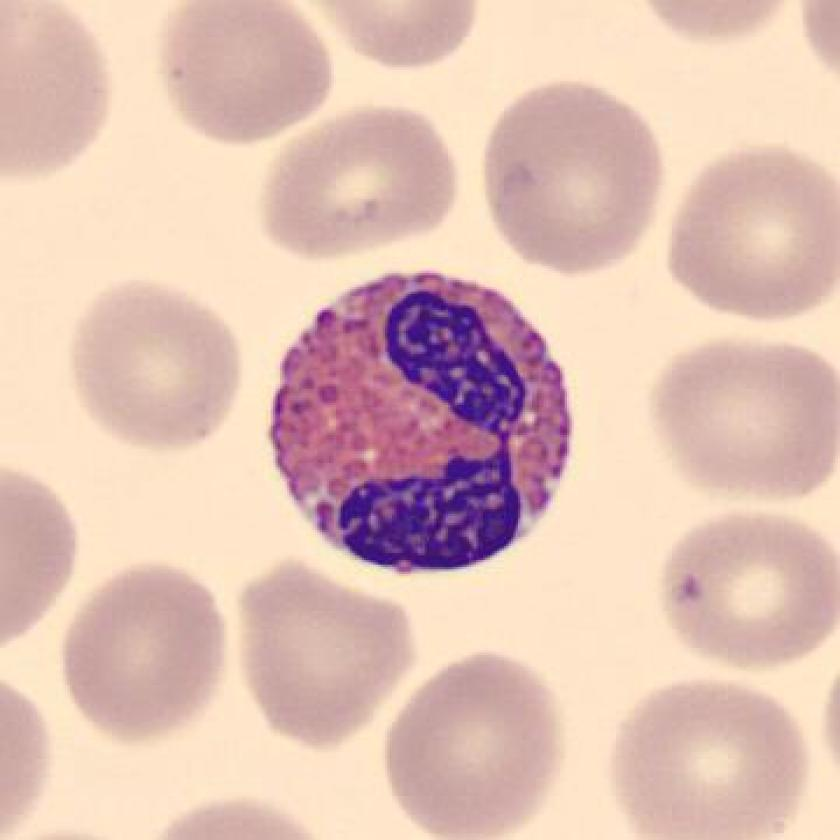eosinophil: (255, 263, 587, 587)
